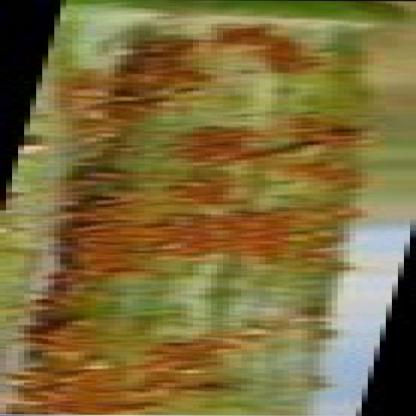wheat Stem Rust: (52, 29, 340, 413)
